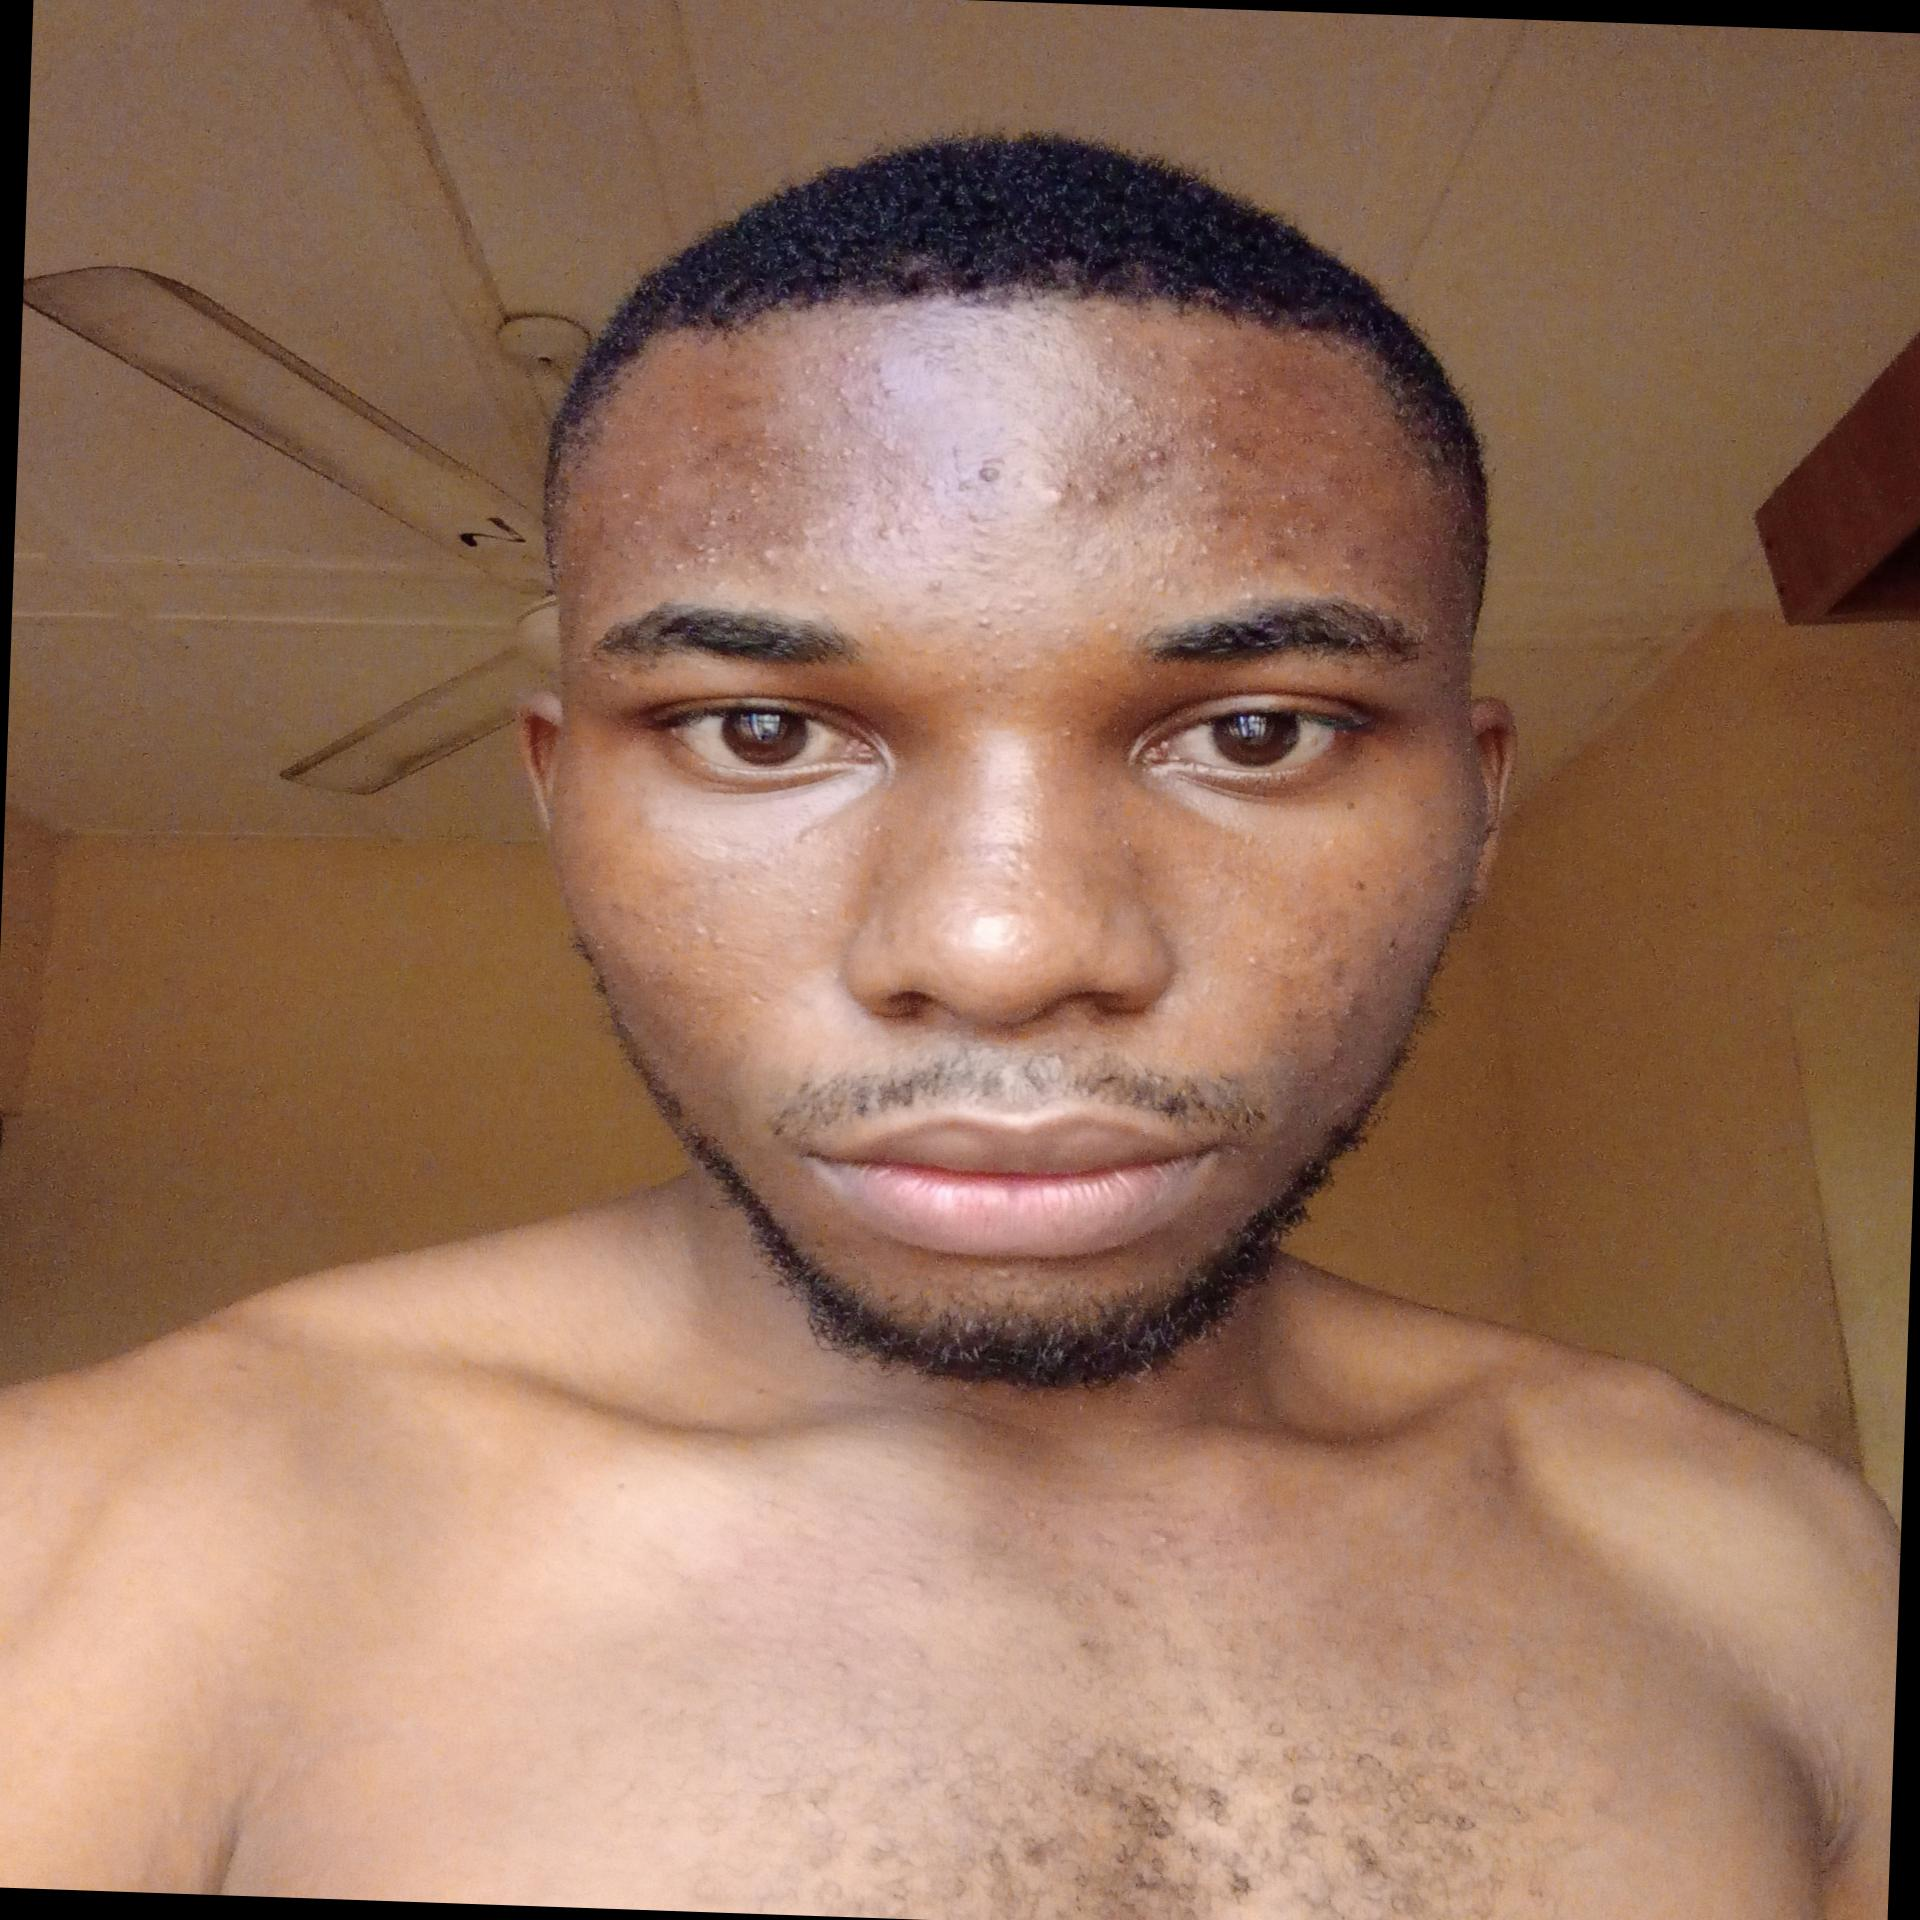Acne: (615, 425, 737, 549), (1240, 508, 1354, 580), (819, 339, 913, 424), (1145, 515, 1236, 598), (738, 431, 872, 473), (1196, 383, 1261, 459), (944, 642, 1025, 702), (1069, 522, 1152, 580), (691, 478, 770, 535), (1036, 466, 1122, 517), (796, 487, 855, 563), (1097, 336, 1217, 371), (958, 498, 1004, 582), (874, 489, 934, 540), (665, 536, 726, 585), (1241, 927, 1306, 971), (1097, 429, 1175, 464), (1101, 380, 1155, 422), (967, 601, 1032, 633), (969, 450, 1013, 487), (687, 916, 735, 949), (925, 475, 978, 501), (1180, 476, 1218, 501), (920, 573, 951, 598), (753, 543, 784, 566), (1051, 723, 1078, 745), (811, 578, 837, 596), (805, 902, 825, 923), (1102, 612, 1124, 629), (691, 960, 707, 983), (1240, 585, 1257, 605)
